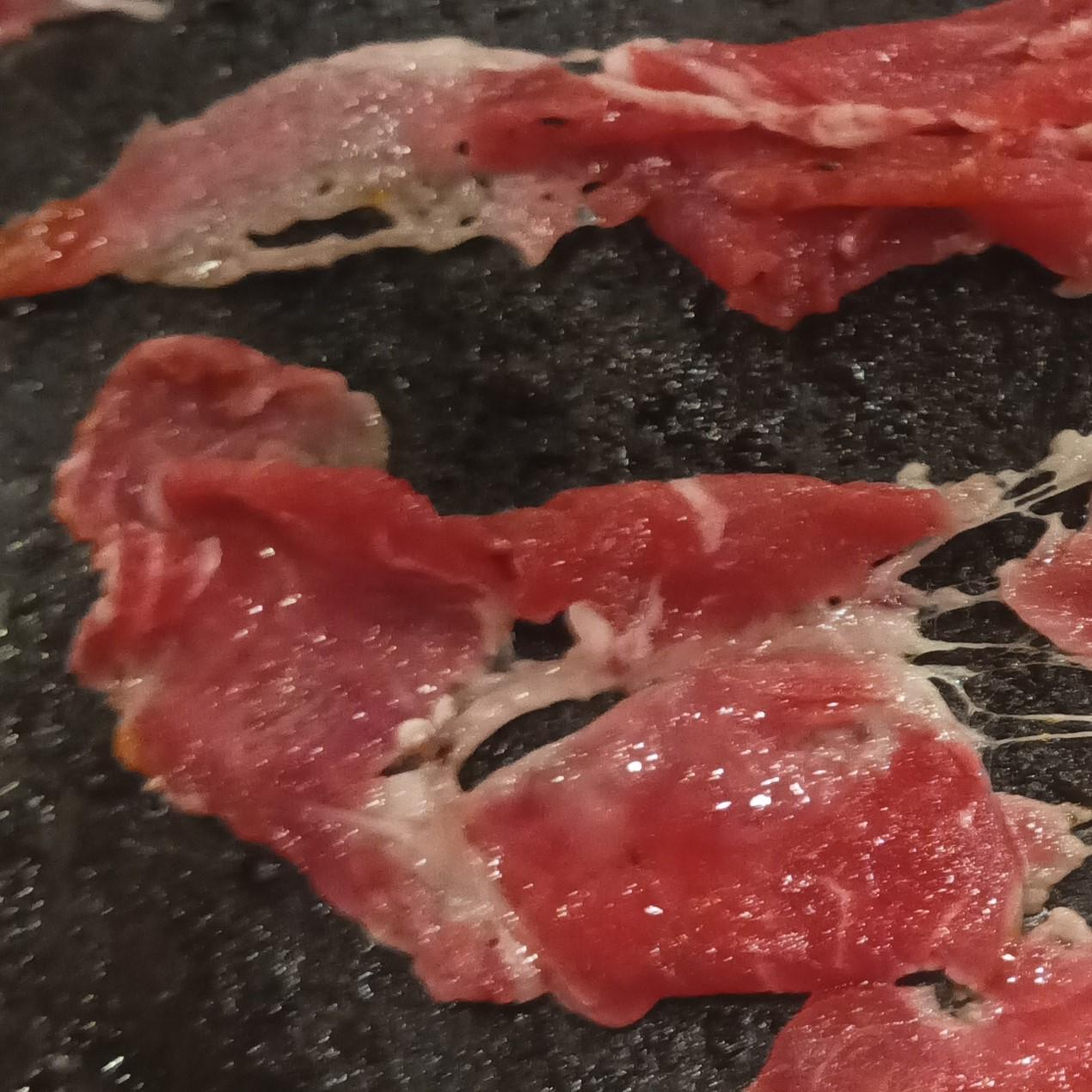Undercooked: (140, 460, 1091, 1091), (0, 0, 1091, 327)
